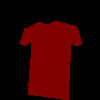abbigliamento_uomo: (19, 20, 82, 100)
